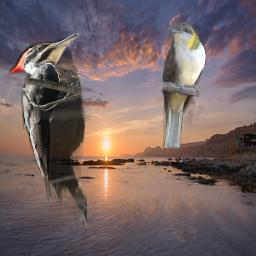Cuckoo: (160, 22, 206, 148)
Woodpecker: (9, 33, 87, 231)
